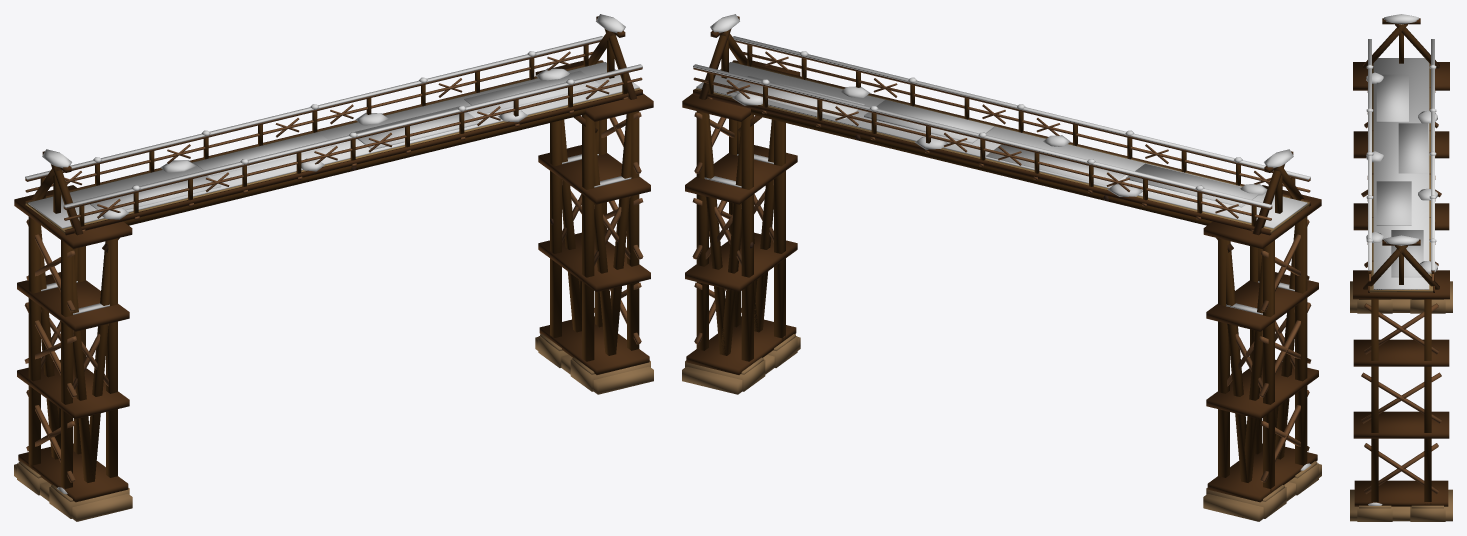
File: timber_ski_bridge.glb
3 views of the same model, side by side, from view 1: azimuth 30°, elevation 25°; view 2: azimuth 150°, elevation 25°; view 3: azimuth 270°, elevation 25° (orthographic). The views are drawn at different scales.
Visible parts, largest first — view 1: timber_ski_bridge; view 2: timber_ski_bridge; view 3: timber_ski_bridge.
Boxes of the visible parts, x1,y1,x2,y2 form: timber_ski_bridge: (14,14,653,521); timber_ski_bridge: (682,14,1321,521); timber_ski_bridge: (1350,14,1452,521).
Size of the model in its own units: 37.4 by 20.99 by 7.
